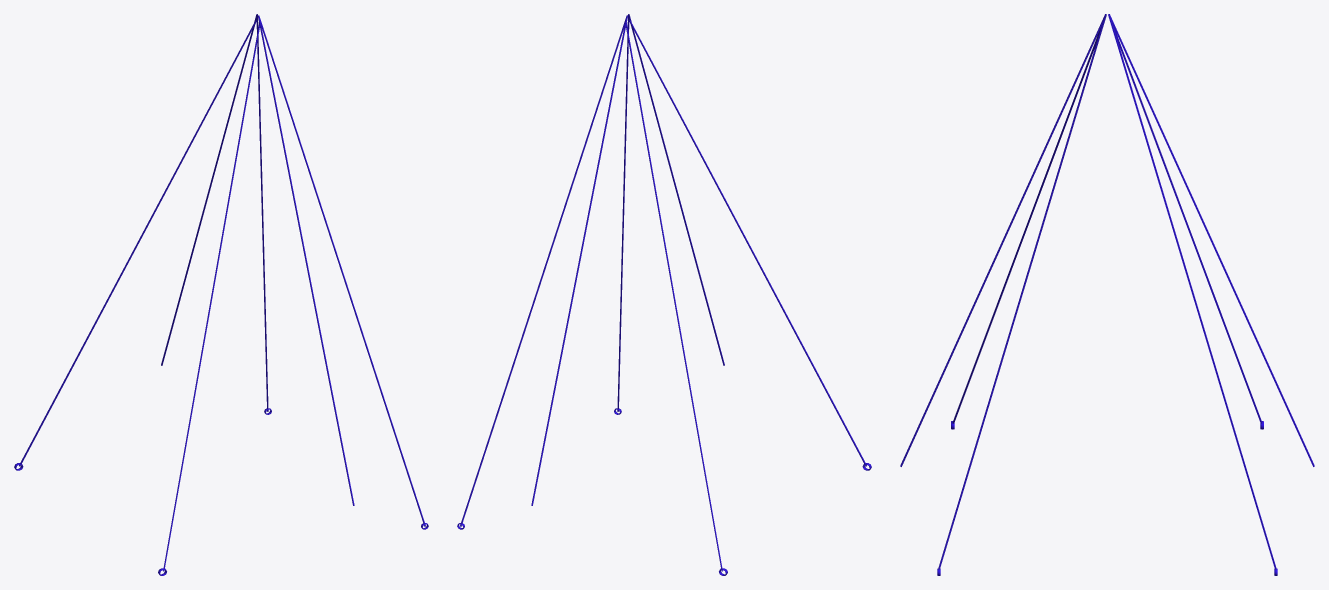
File: SM_Tipairua_RopesBack3.fbx
3 views of the same model, side by side, from view 1: azimuth 30°, elevation 25°; view 2: azimuth 150°, elevation 25°; view 3: azimuth 270°, elevation 25° (orthographic). The views are drawn at different scales.
Visible parts, largest first — view 1: SM_TIpairua_BackRopes; view 2: SM_TIpairua_BackRopes; view 3: SM_TIpairua_BackRopes.
Boxes of the visible parts, x1,y1,x2,y2 form: SM_TIpairua_BackRopes: [14, 14, 428, 575]; SM_TIpairua_BackRopes: [457, 14, 871, 575]; SM_TIpairua_BackRopes: [900, 14, 1314, 575].
Bounding box in the file's own units: 900 × 709 × 1232.
